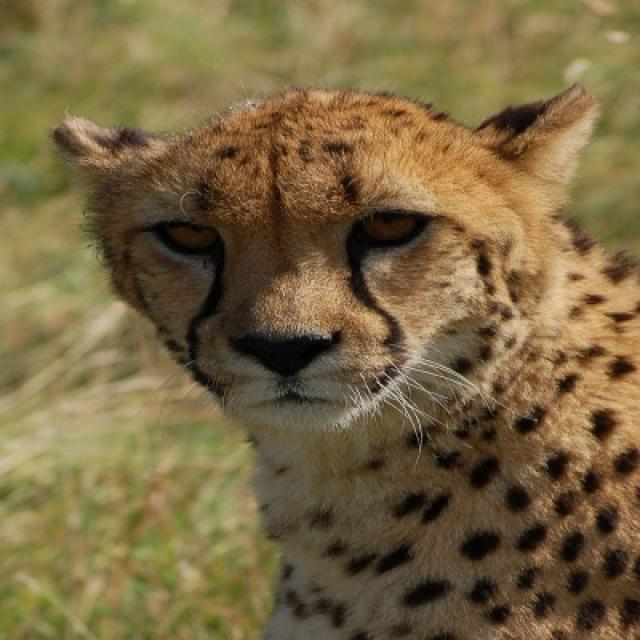Cheetah: (51, 85, 638, 638)
